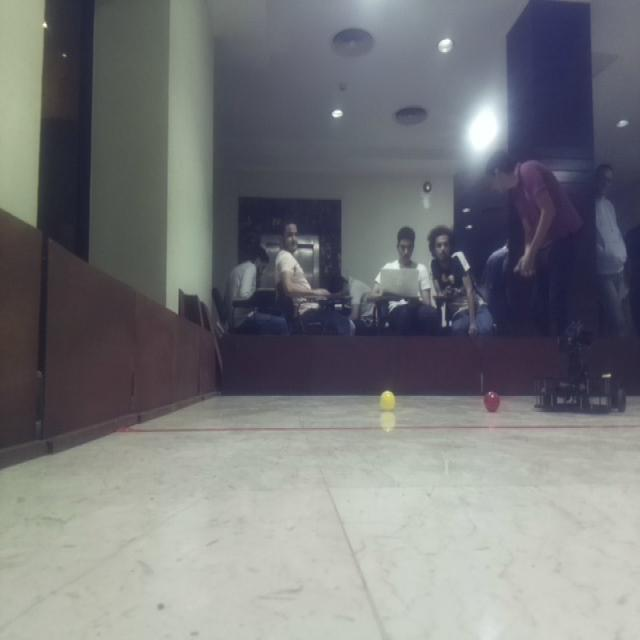ball: (482, 387, 504, 415), (378, 386, 398, 415)
